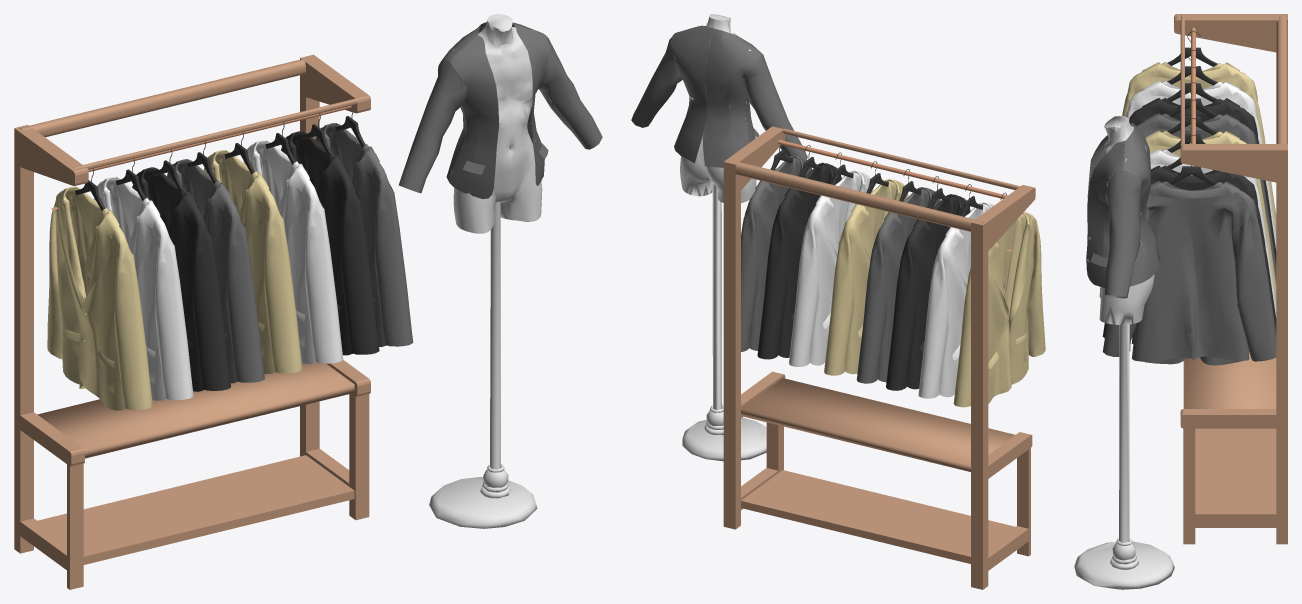
File: Office Wear_suits.fbx
3 renders of one model, left to right at view 1: azimuth 30°, elevation 25°; view 2: azimuth 150°, elevation 25°; view 3: azimuth 270°, elevation 25°, orthographic. The views are drawn at different scales.
Parts seen in each view (by area): view 1: Cylinder.009, Suit_Mannequin, AM_102_034_003.001, Pattern2D_5081.006, AM_102_034_003.006, AM_102_034_003.002, AM_102_034_003.005, AM_102_034_003.008, AM_102_034_003.016, AM_102_034_003.007, AM_102_034_003.015, Cylinder.016; view 2: Cylinder.009, Suit_Mannequin, Pattern2D_5081.006, AM_102_034_003.001, AM_102_034_003.006, AM_102_034_003.005, AM_102_034_003.008, AM_102_034_003.002, AM_102_034_003.016, AM_102_034_003.007, AM_102_034_003.015, Cylinder.016; view 3: Cylinder.009, AM_102_034_003.015, Suit_Mannequin, Pattern2D_5081.006, AM_102_034_003.001, AM_102_034_003.002, AM_102_034_003.007, AM_102_034_003.008, AM_102_034_003.016, AM_102_034_003.005, AM_102_034_003.006, Cylinder.016 (+6 smaller).
Boxes of the visible parts, box(x1,y1,x2,y2) form: Cylinder.009: box(14, 54, 370, 589); Suit_Mannequin: box(399, 14, 602, 528); AM_102_034_003.001: box(47, 186, 152, 410); Pattern2D_5081.006: box(37, 362, 354, 458); AM_102_034_003.006: box(243, 140, 343, 364); AM_102_034_003.002: box(94, 176, 193, 400); AM_102_034_003.005: box(203, 149, 302, 373); AM_102_034_003.008: box(132, 167, 230, 391); AM_102_034_003.016: box(281, 131, 379, 355); AM_102_034_003.007: box(167, 159, 264, 383); AM_102_034_003.015: box(315, 123, 413, 346); Cylinder.016: box(88, 105, 351, 171); Cylinder.009: box(723, 126, 1035, 589); Suit_Mannequin: box(631, 14, 807, 461); Pattern2D_5081.006: box(741, 378, 1015, 471); AM_102_034_003.001: box(953, 211, 1045, 407); AM_102_034_003.006: box(789, 170, 873, 366); AM_102_034_003.005: box(824, 179, 908, 375); AM_102_034_003.008: box(886, 194, 970, 390); AM_102_034_003.002: box(918, 202, 994, 398); AM_102_034_003.016: box(757, 162, 841, 359); AM_102_034_003.007: box(856, 187, 940, 383); AM_102_034_003.015: box(741, 155, 812, 351); Cylinder.016: box(778, 140, 1007, 198); Cylinder.009: box(1174, 14, 1287, 544); AM_102_034_003.015: box(1102, 181, 1276, 365); Suit_Mannequin: box(1074, 116, 1174, 589); Pattern2D_5081.006: box(1185, 352, 1276, 408); AM_102_034_003.001: box(1122, 62, 1276, 232); AM_102_034_003.002: box(1125, 80, 1276, 249); AM_102_034_003.007: box(1137, 113, 1276, 282); AM_102_034_003.008: box(1129, 97, 1276, 265); AM_102_034_003.016: box(1102, 165, 1276, 343); AM_102_034_003.005: box(1145, 130, 1276, 300); AM_102_034_003.006: box(1150, 149, 1276, 317); Cylinder.016: box(1191, 27, 1195, 143).
Size of the model in its own units: 383 by 370 by 153.
